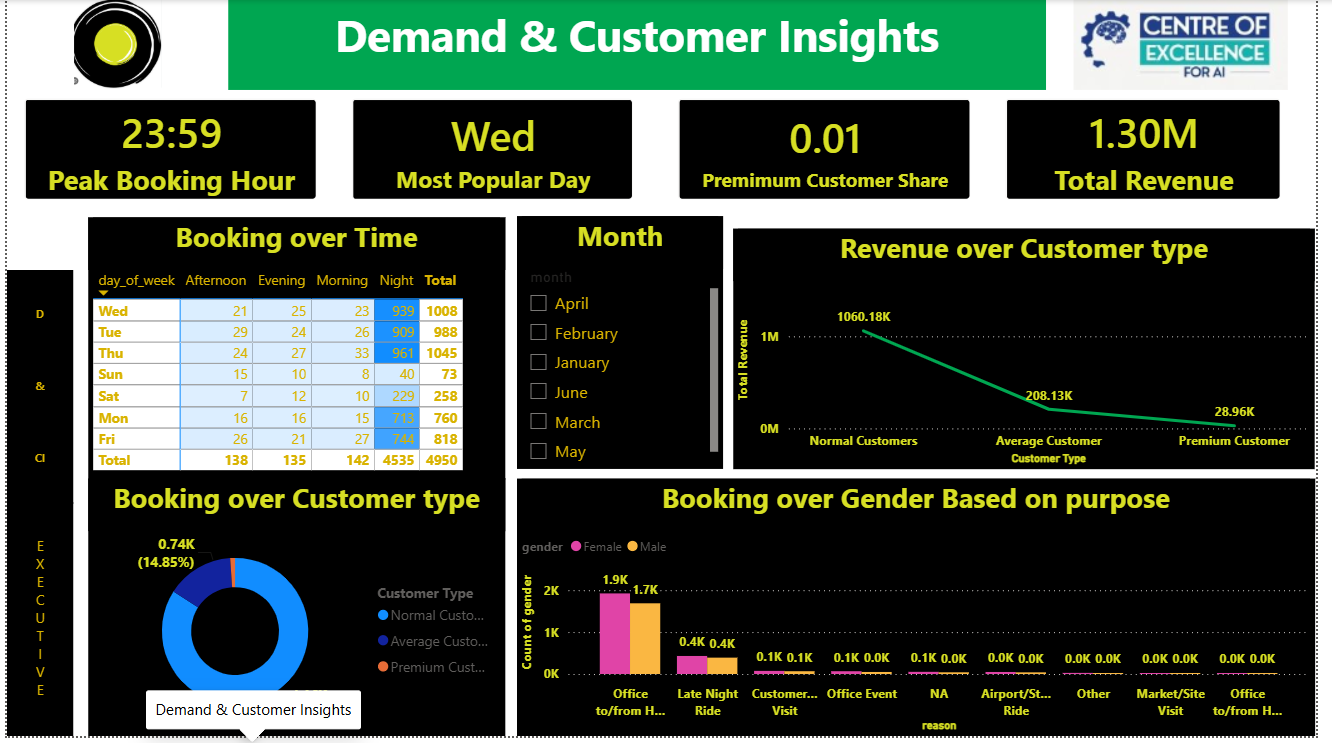

This screenshot's page, from the dashboard's own definition file:
{"tool":"powerbi","page":{"name":"Demand & Customer Insights","canvas":[1280,720],"ordinal":1},"visuals":[{"type":"cardVisual","fields":{"Data":["Data.Peak Booking Hour"]},"box":[0,88,320.4,123.5],"z":0},{"type":"cardVisual","fields":{"Data":["Data.Most Popular Day"]},"box":[320.4,88,320.4,123.5],"z":1000},{"type":"cardVisual","fields":{"Data":["Data.Premimum Customer Share%"]},"box":[639.5,79.5,320.4,132.1],"z":2000},{"type":"cardVisual","fields":{"Data":["Data.Total Revenue"]},"box":[959.9,88,320.4,123.5],"z":3000},{"type":"textbox","box":[216.4,0,799.7,88],"z":4000},{"type":"pivotTable","title":"Booking over Time","fields":{"Values":["CountNonNull(Data.booking id)"],"Rows":["Data.day_of_week"],"Columns":["Data.TimeOfDay"]},"box":[52.6,212.8,384,255.6],"z":5000},{"type":"lineChart","title":"Revenue over Customer type","fields":{"Category":["Data.Customer Type"],"Y":["Data.Total Revenue"]},"box":[686,212.8,594.3,245.8],"z":6000},{"type":"donutChart","title":"Booking over Customer type","fields":{"Y":["CountNonNull(Data.booking id)"],"Category":["Data.Customer Type"]},"box":[52.6,468.3,384,251.9],"z":7000},{"type":"clusteredColumnChart","title":"Booking over Gender Based on purpose","fields":{"Category":["Data.reason"],"Series":["Data.gender"],"Y":["CountNonNull(Data.gender)"]},"box":[445.1,468.3,835.2,251.9],"z":8000},{"type":"image","box":[1016.2,0,264.1,88],"z":9000},{"type":"slicer","title":"Month","fields":{"Values":["Data.month"]},"box":[459.8,211.6,201.8,247],"z":10000},{"type":"actionButton","box":[0,501.4,52,50],"z":11000},{"type":"actionButton","box":[0,563.7,52,50],"z":12000},{"type":"image","box":[0,0,216.4,88],"z":13000},{"type":"actionButton","box":[0,447.6,52,40],"z":14000},{"type":"actionButton","box":[1.2,393.8,52,40],"z":15000}]}

Visuals, with their boxes on the page's 1280x720 design canvas (x1, y1, x2, y2). These are canvas units, not pixel positions in the 1332x743 screenshot, which may show the page scaled, cropped or inside an application window:
cardVisual - Data.Peak Booking Hour: box(0, 88, 320, 212)
cardVisual - Data.Most Popular Day: box(320, 88, 641, 212)
cardVisual - Data.Premimum Customer Share%: box(640, 80, 960, 212)
cardVisual - Data.Total Revenue: box(960, 88, 1280, 212)
textbox: box(216, 0, 1016, 88)
"Booking over Time" pivotTable: box(53, 213, 437, 468)
"Revenue over Customer type" lineChart: box(686, 213, 1280, 459)
"Booking over Customer type" donutChart: box(53, 468, 437, 720)
"Booking over Gender Based on purpose" clusteredColumnChart: box(445, 468, 1280, 720)
image: box(1016, 0, 1280, 88)
"Month" slicer: box(460, 212, 662, 459)
actionButton: box(0, 501, 52, 551)
actionButton: box(0, 564, 52, 614)
image: box(0, 0, 216, 88)
actionButton: box(0, 448, 52, 488)
actionButton: box(1, 394, 53, 434)
